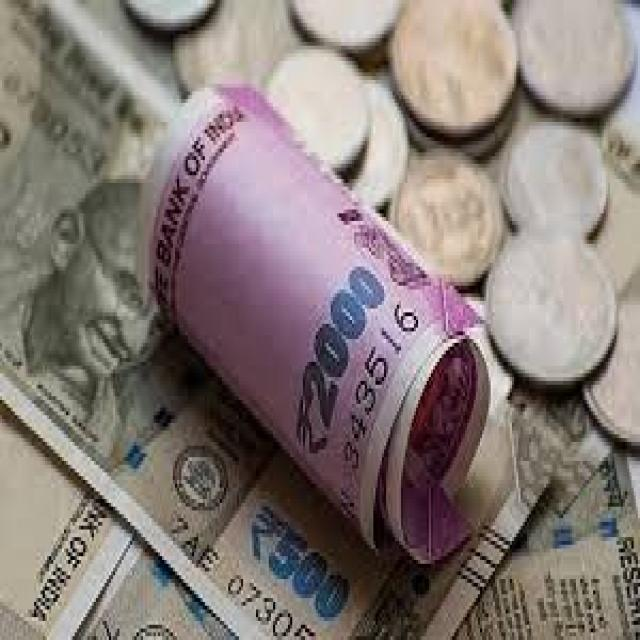money: (130, 54, 606, 591)
